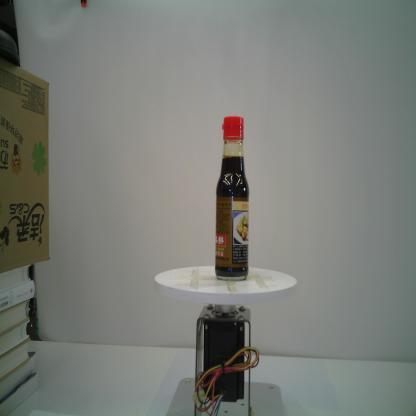Seasoner: (215, 116, 249, 281)
